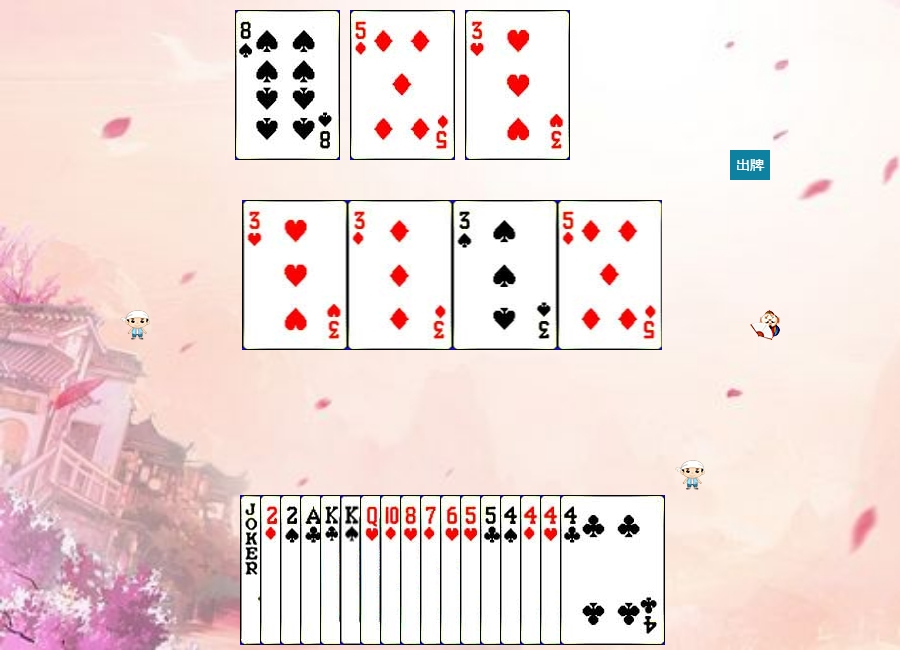10~1: (380, 495, 485, 645)
12~3: (360, 495, 465, 645)
13~2: (320, 495, 425, 645)
13~4: (340, 495, 445, 645)
14~2: (300, 495, 405, 645)
15~1: (260, 495, 365, 645)
15~4: (280, 495, 385, 645)
17~3: (240, 495, 345, 645)
3~1: (348, 200, 453, 350)
3~3: (465, 10, 570, 160), (243, 200, 348, 350)
3~4: (453, 200, 558, 350)
4~1: (520, 495, 625, 645)
4~2: (560, 495, 665, 645)
4~3: (540, 495, 645, 645)
4~4: (500, 495, 605, 645)
5~1: (350, 10, 455, 160), (558, 200, 663, 350)
5~2: (480, 495, 585, 645)
5~3: (460, 495, 565, 645)
6~3: (440, 495, 545, 645)
7~1: (420, 495, 525, 645)
8~3: (400, 495, 505, 645)
8~4: (235, 10, 340, 160)
